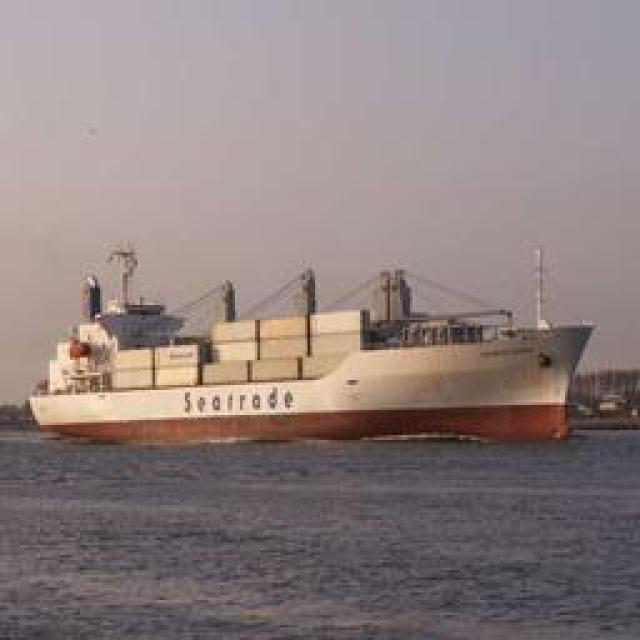Ship: (30, 266, 600, 449)
